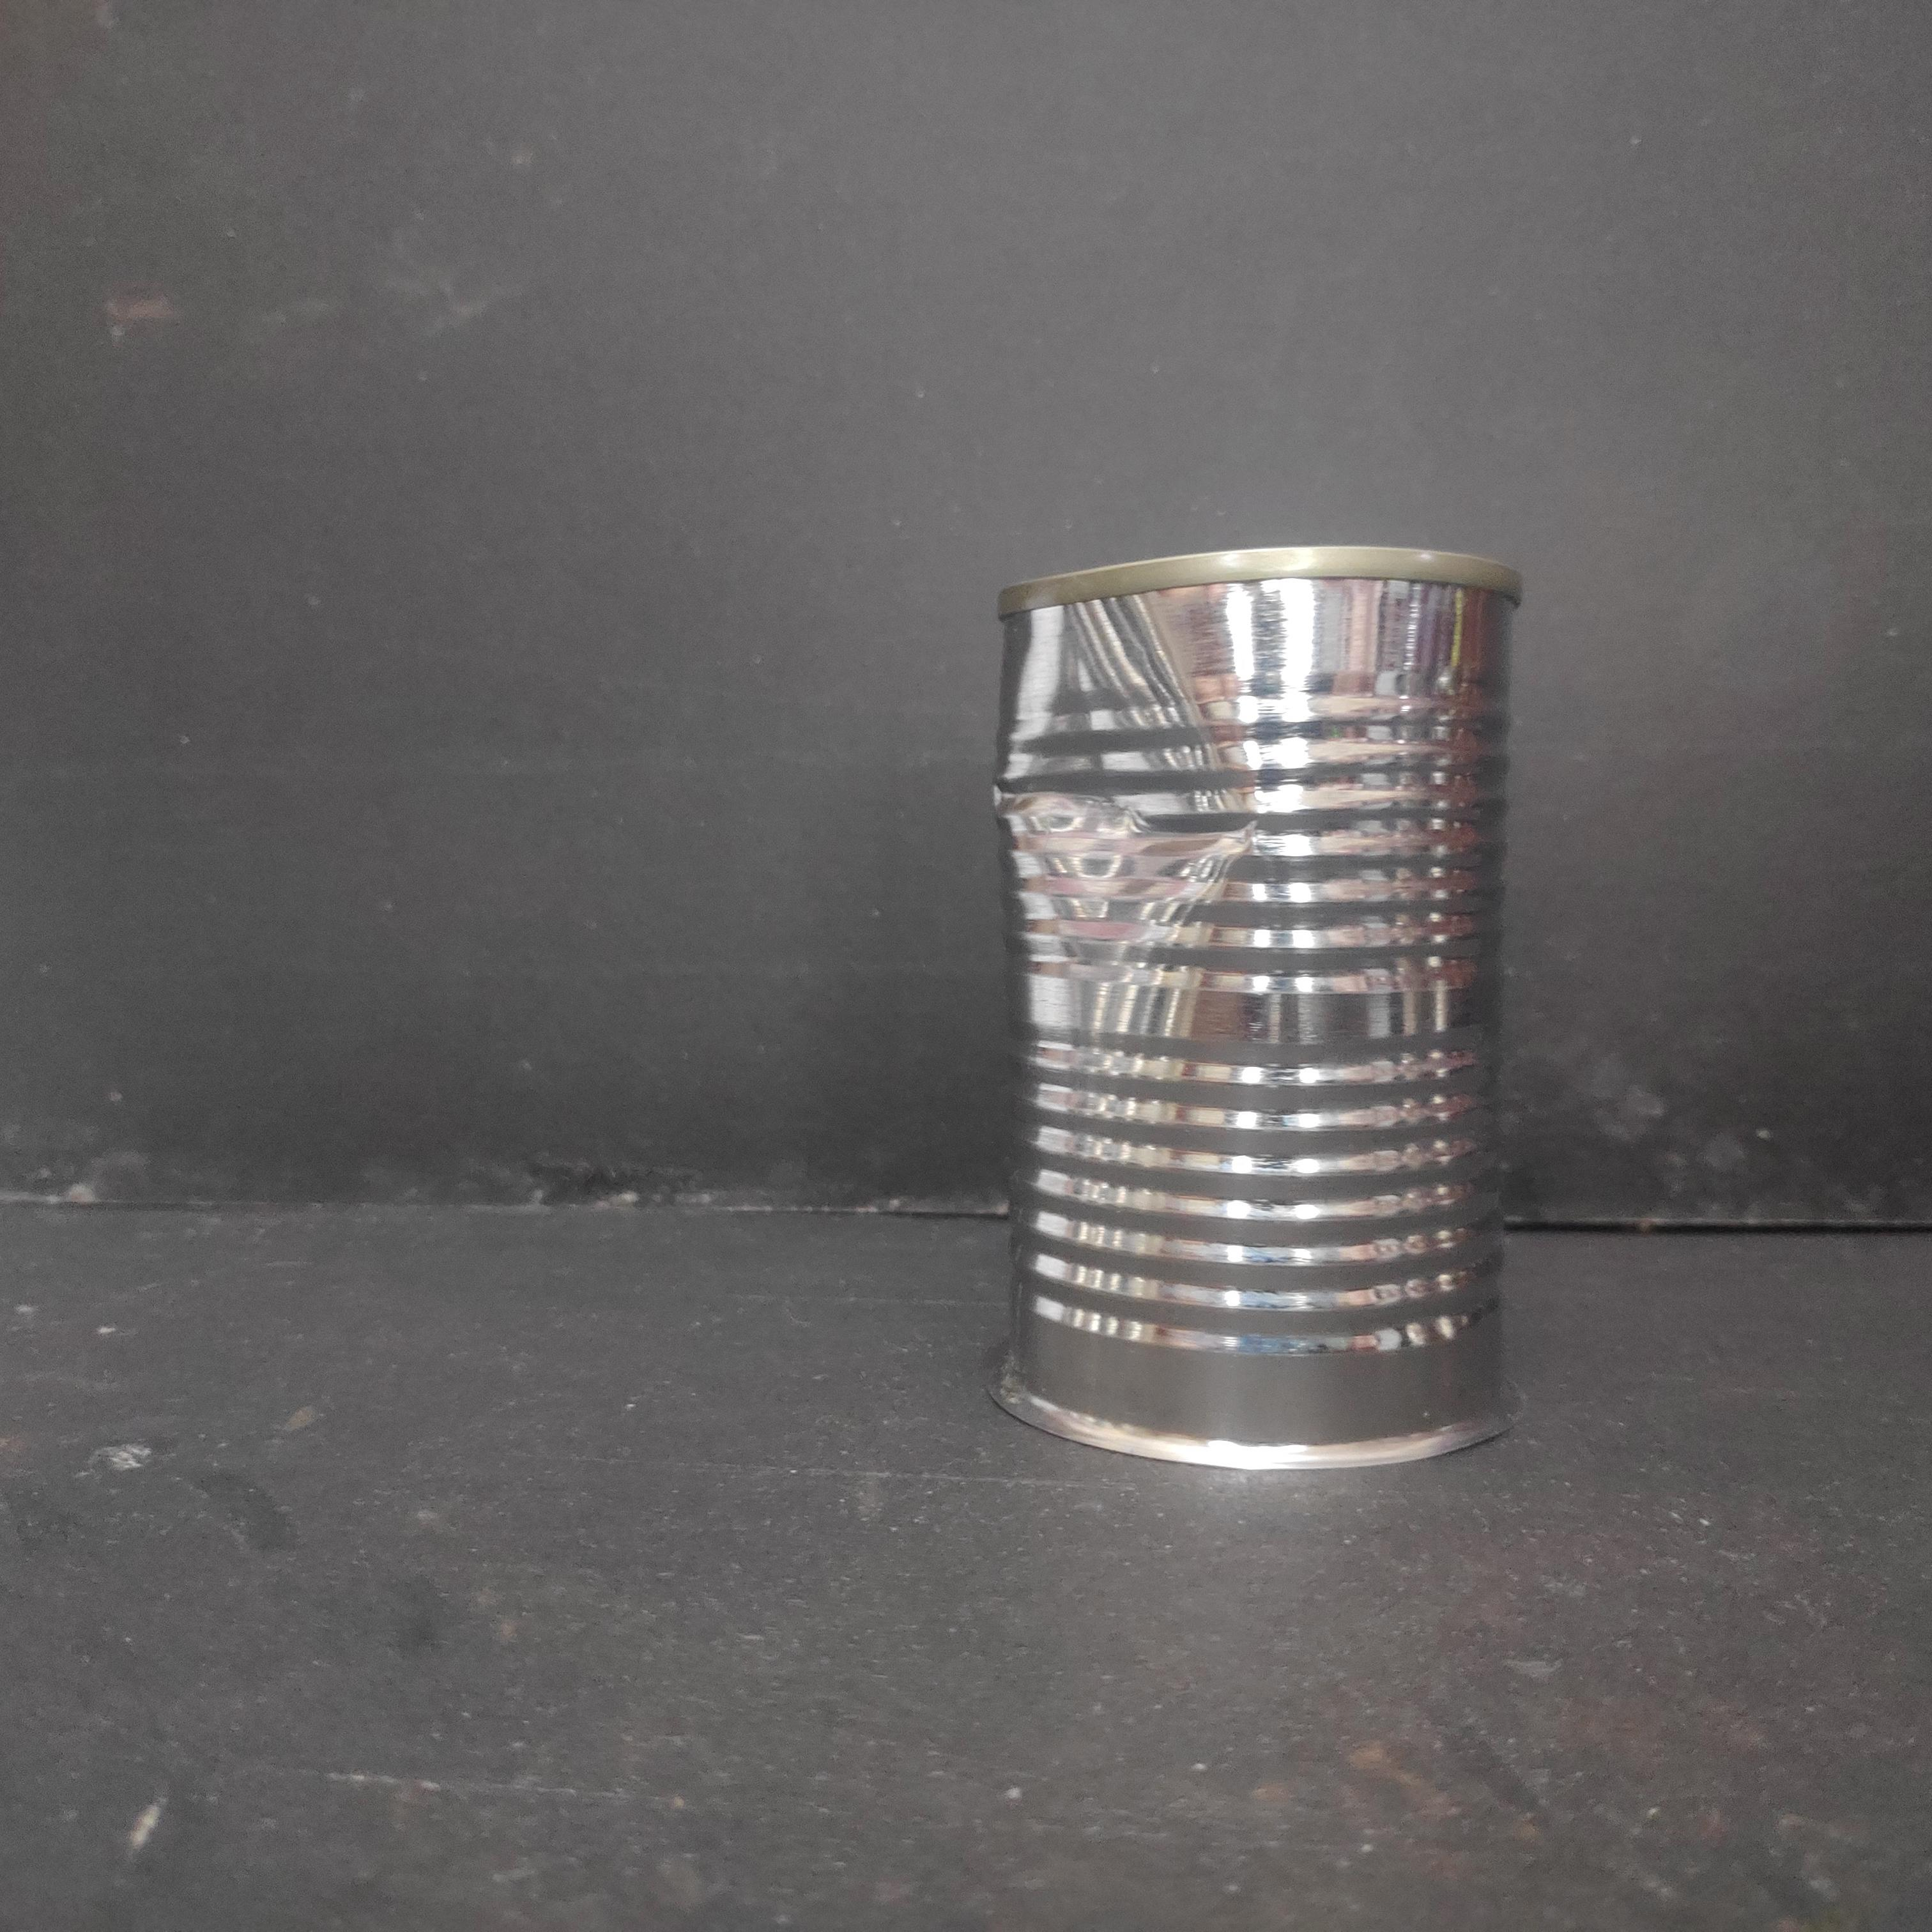Minor Defect: (978, 534, 1534, 1490)
